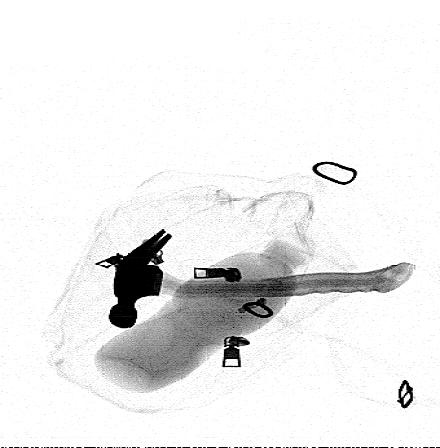Hammer: (108, 228, 416, 329)
